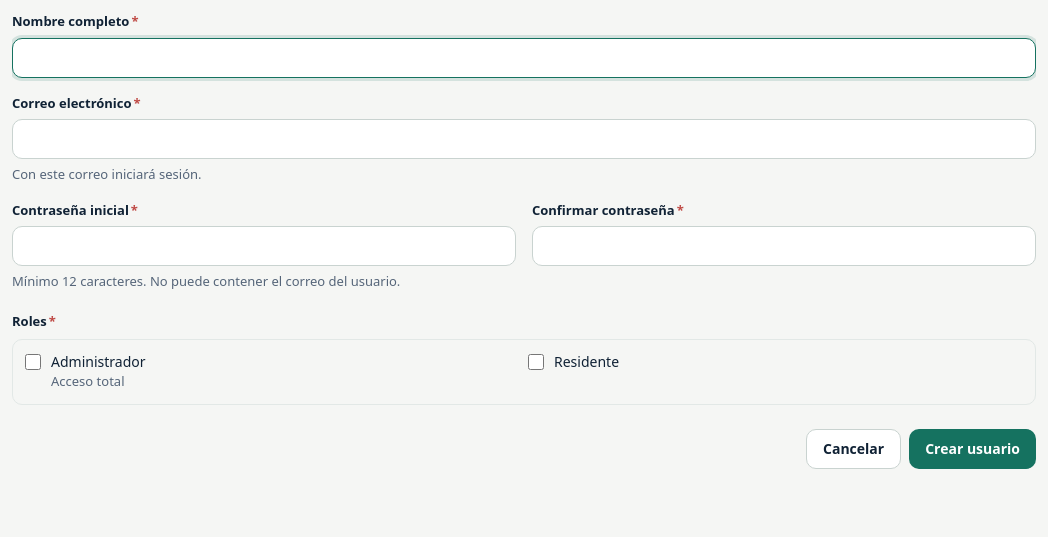
Test case: UserForm › requires every field and at least one role
The width and height of the screenshot is (1048, 537).
Expected: the checkbox labelled "Residente" is shown, [528, 354, 544, 370]
Click the button "Crear usuario" at (973, 448), box [909, 428, 1036, 468]
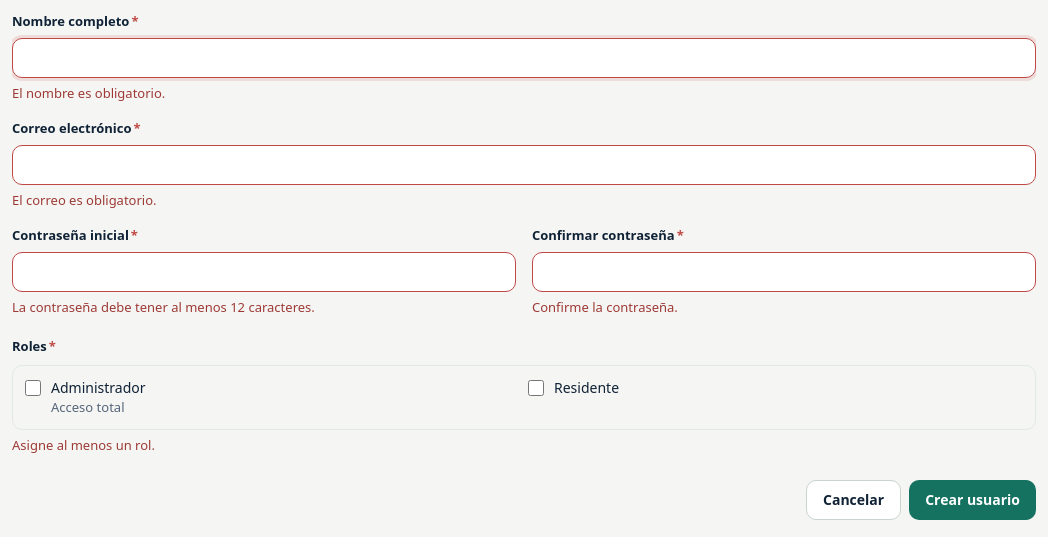
Now the text "El nombre es obligatorio." is shown, box [12, 84, 165, 102]
Now the text "El correo es obligatorio." is shown, box [12, 190, 157, 208]
Now the text "La contraseña debe tener al menos 12 caracteres." is shown, box [12, 298, 315, 316]
